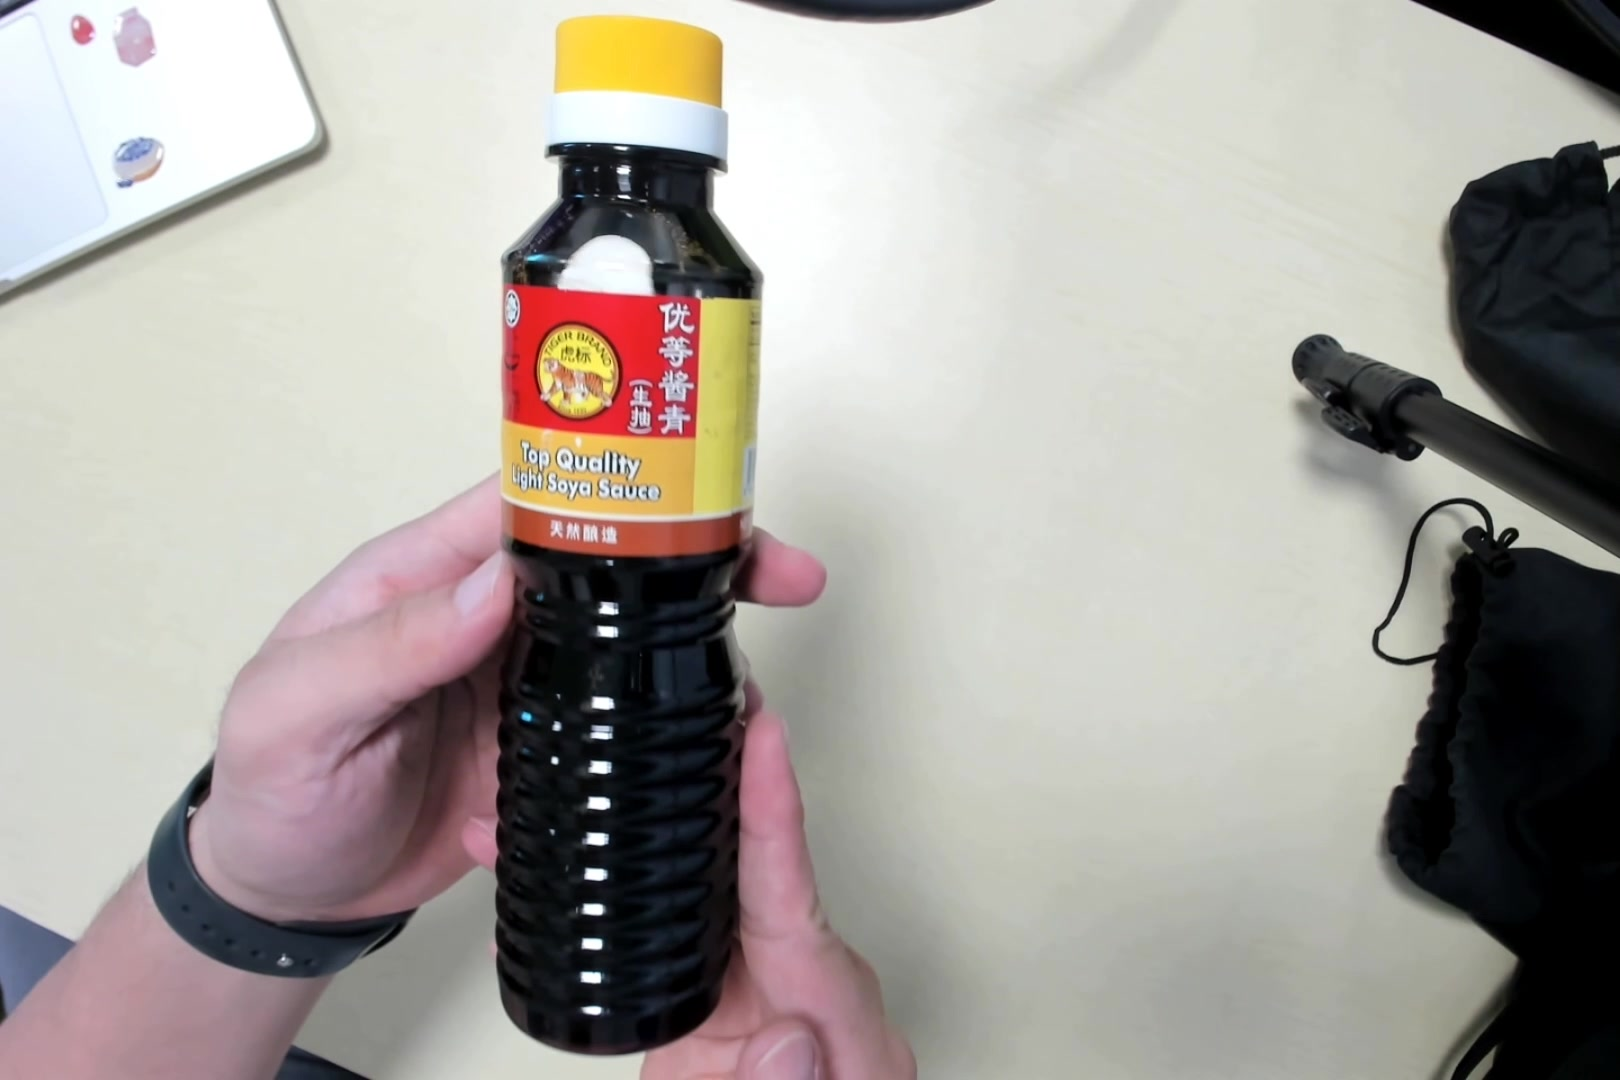LightSoySauce_300-399g_Halal_NonHealthy: (497, 16, 757, 1055)
